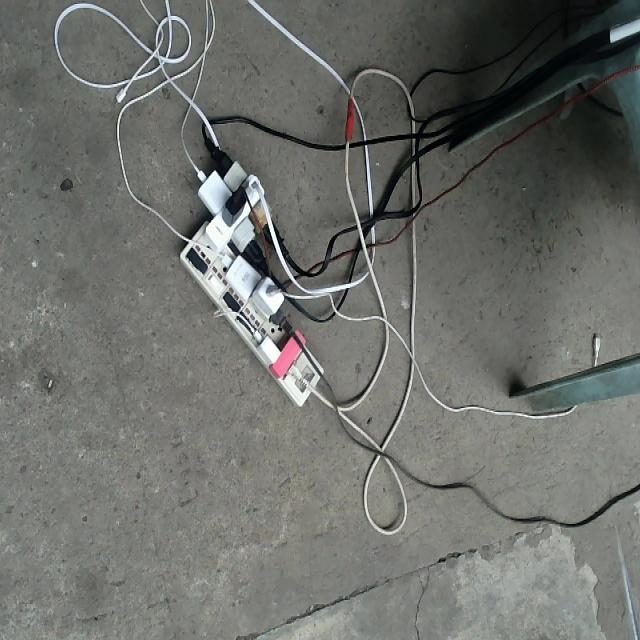-: (179, 135, 323, 408)
